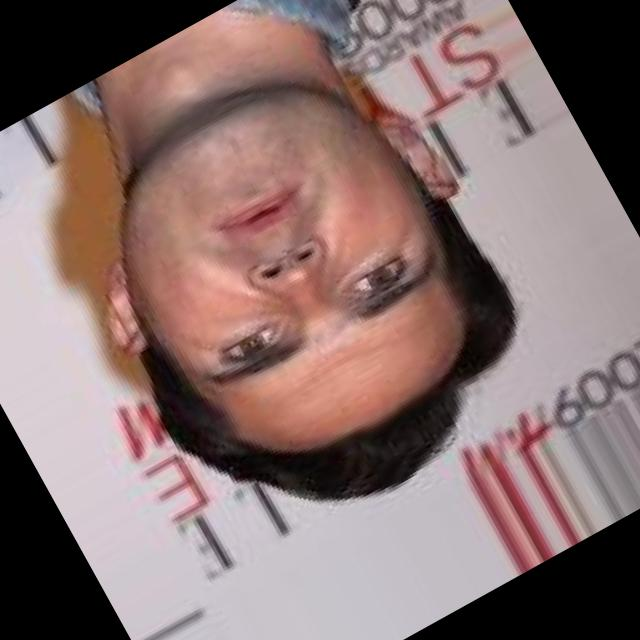bareface: (14, 24, 582, 588)
